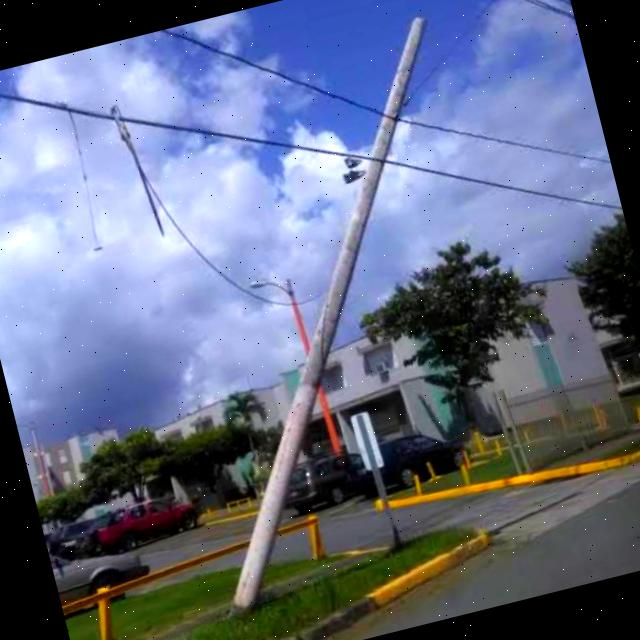Broken Pole: (232, 18, 423, 613)
